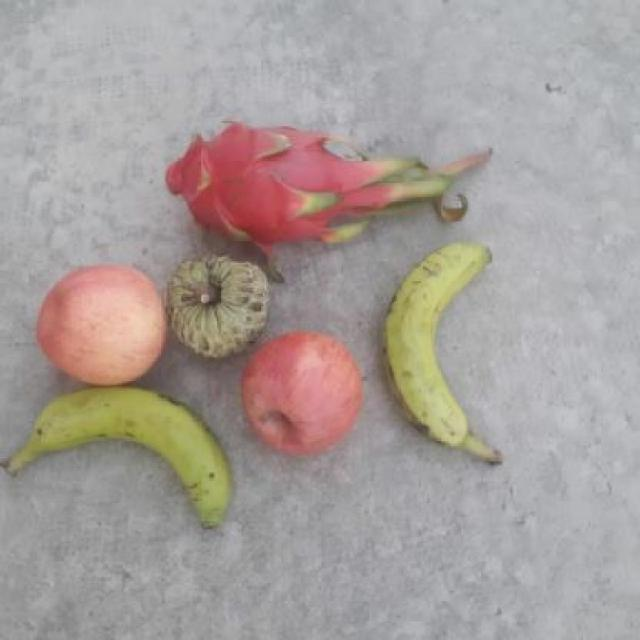apple: (31, 262, 166, 383), (240, 330, 354, 452)
banana: (375, 239, 528, 466), (22, 385, 235, 523)
dragon fruit: (162, 122, 370, 246)
sugar apple: (162, 248, 273, 364)
